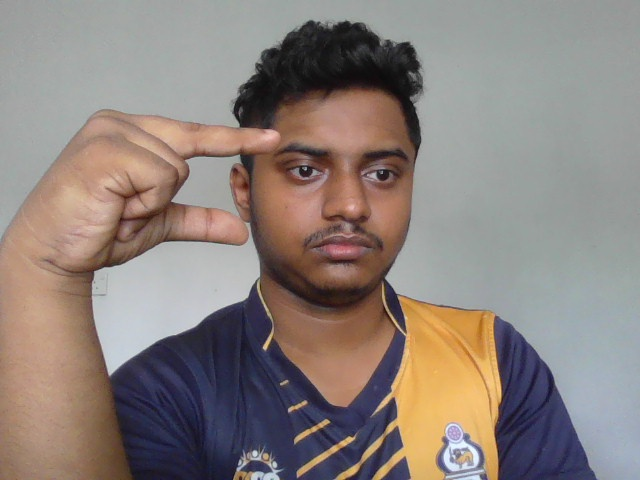No: (37, 107, 280, 272)
